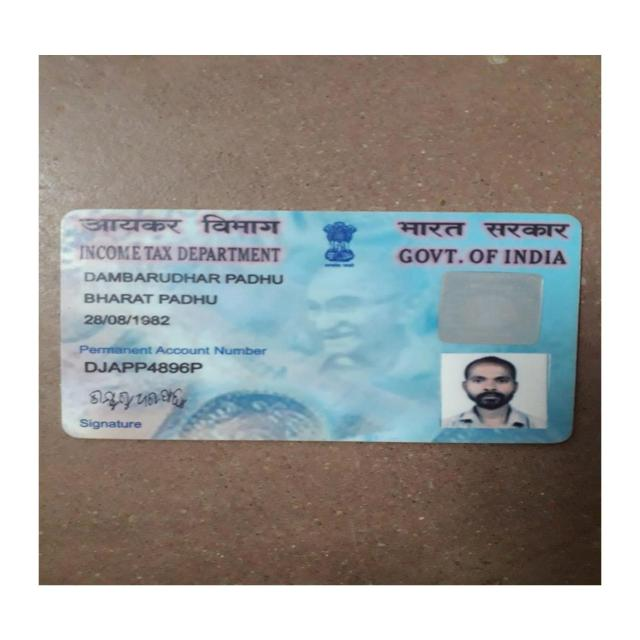pan_card: (53, 205, 577, 448)
